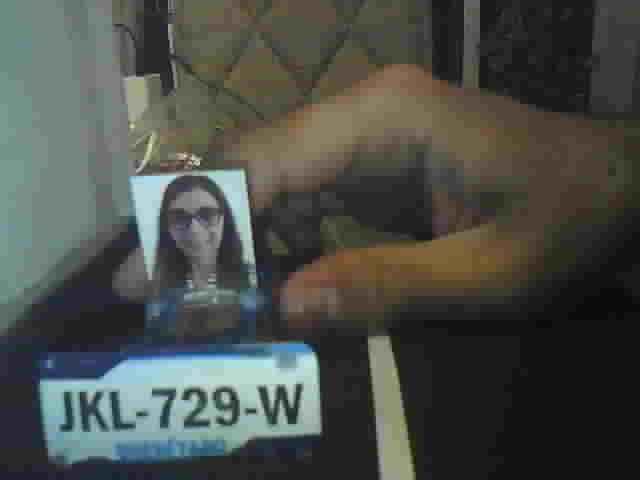PLACA: (35, 340, 324, 469)
ROSTRO: (142, 176, 254, 292)
